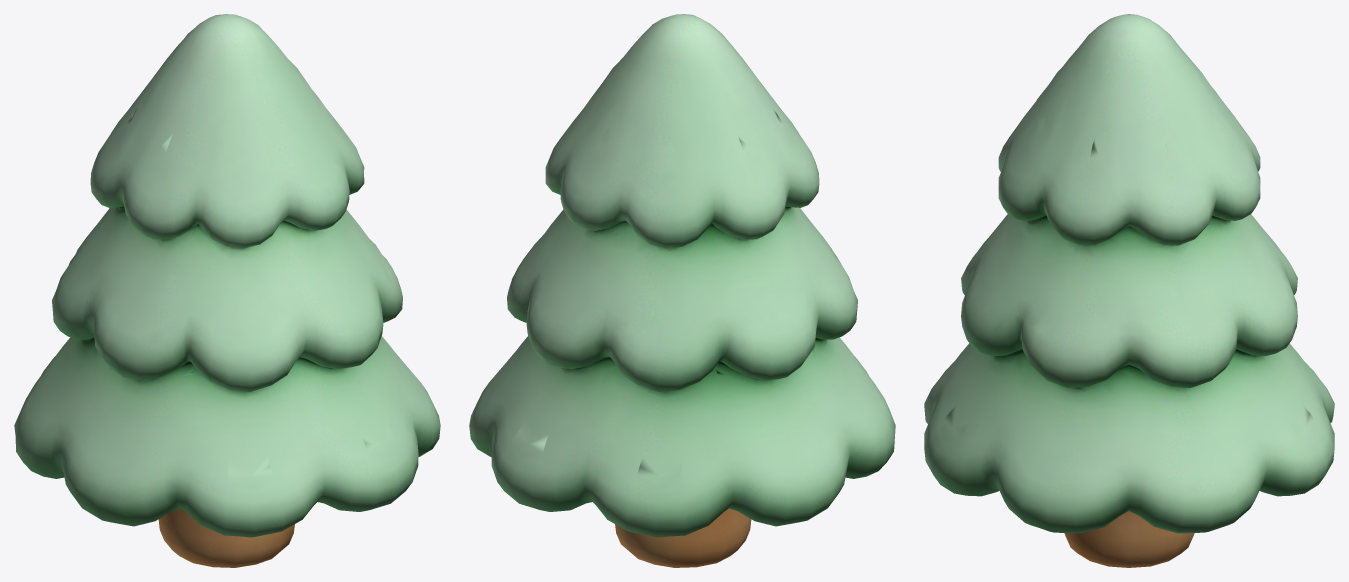
Rendered from tree-pine.glb.
3 renders of one model, left to right at view 1: azimuth 30°, elevation 25°; view 2: azimuth 150°, elevation 25°; view 3: azimuth 270°, elevation 25°, orthographic.
Parts seen in each view (by area): view 1: tripo_node_c936c482-31f9-4f8e-9ae1-a8b587515eb5; view 2: tripo_node_c936c482-31f9-4f8e-9ae1-a8b587515eb5; view 3: tripo_node_c936c482-31f9-4f8e-9ae1-a8b587515eb5.
Boxes of the visible parts, box(x1,y1,x2,y2) form: tripo_node_c936c482-31f9-4f8e-9ae1-a8b587515eb5: box(14, 14, 440, 567); tripo_node_c936c482-31f9-4f8e-9ae1-a8b587515eb5: box(469, 14, 895, 567); tripo_node_c936c482-31f9-4f8e-9ae1-a8b587515eb5: box(924, 14, 1334, 567).
Size of the model in its own units: 0.6966 by 0.9971 by 0.7005.
Materials: 1 (1 with a texture image).
